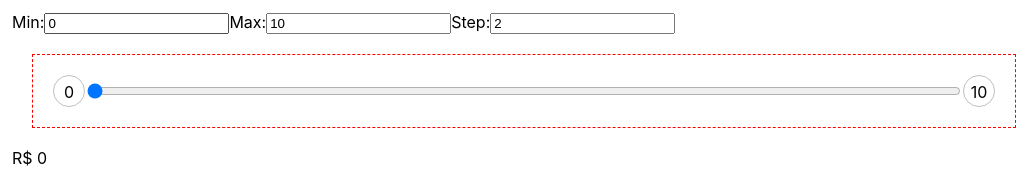
Test Range Input › should change values to 0 when value isempty
The width and height of the screenshot is (1033, 183).
Replace the text in the field named "min" with "5" at coordinates (137, 24), box [44,13,229,34]
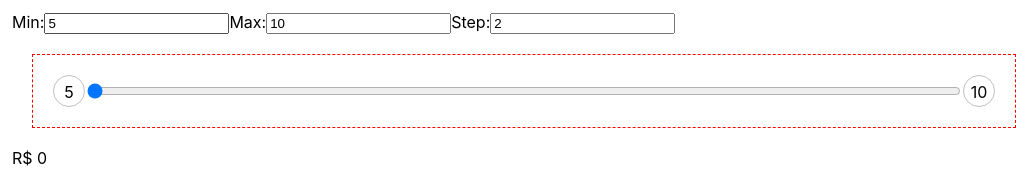
Clear the field named "min" at coordinates (137, 24), box [44,13,229,34]
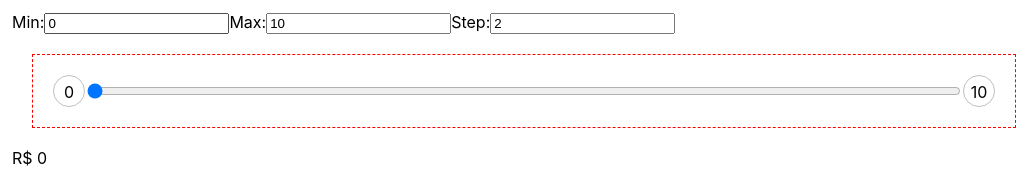
Expected: the field named "min" holds "0", [44,13,229,34]
